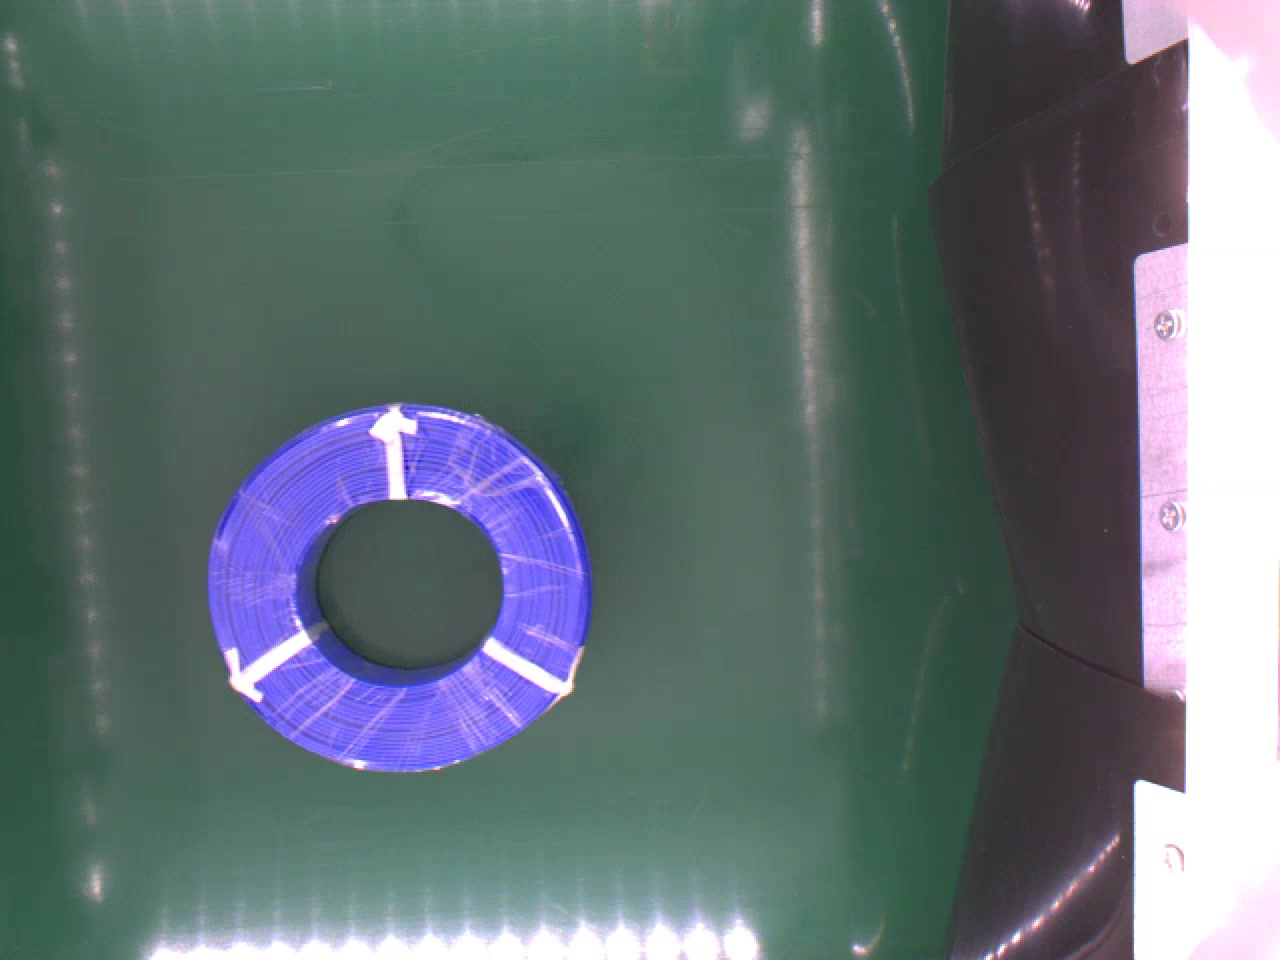blue: (196, 396, 595, 769)
